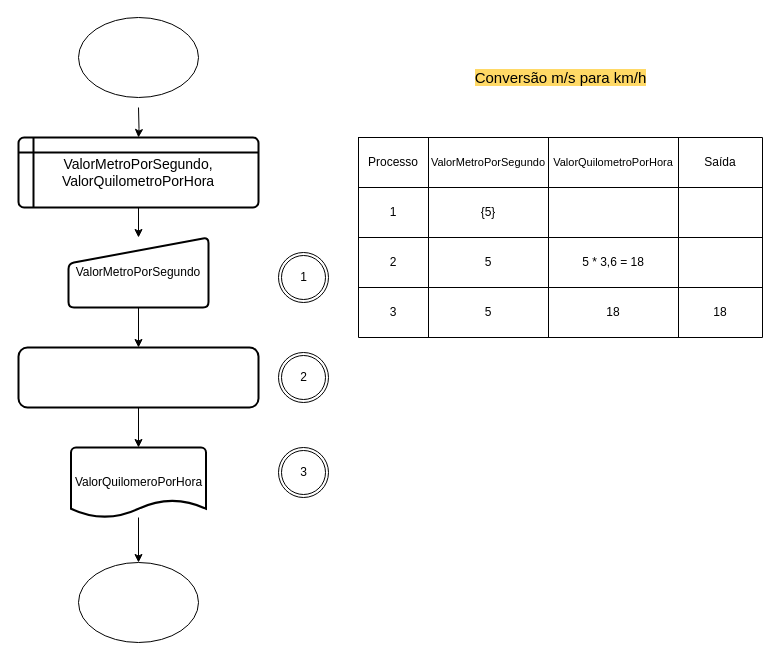
This 780x660 diagram has some shape labels left out. The centre of each missing label's shape, as x and y in pixels:
Fim: the point at 138,602
Inicio: the point at 138,57
ValorQuilometroPorHora = ValorMetroPorSegundo * 3,6: the point at 138,377
